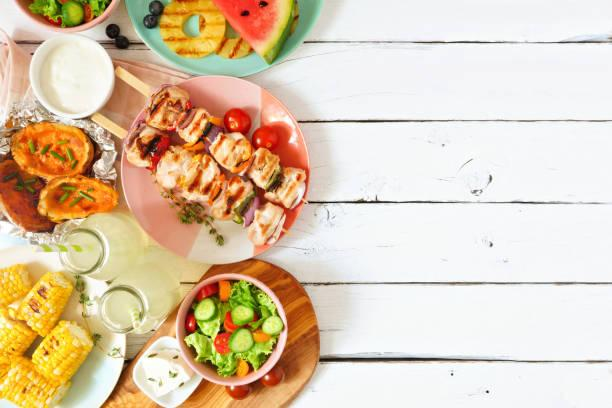Braised Crucian Carp: (121, 72, 309, 260), (1, 242, 128, 405), (0, 100, 121, 241), (175, 273, 287, 387)
